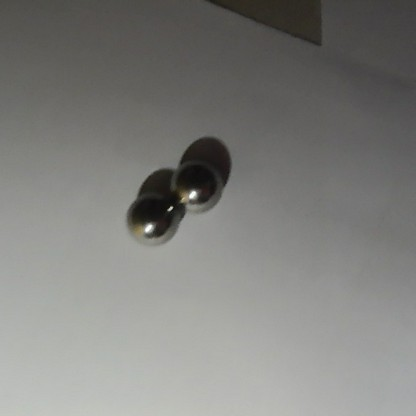ironball: (123, 194, 184, 248), (169, 155, 224, 209)
